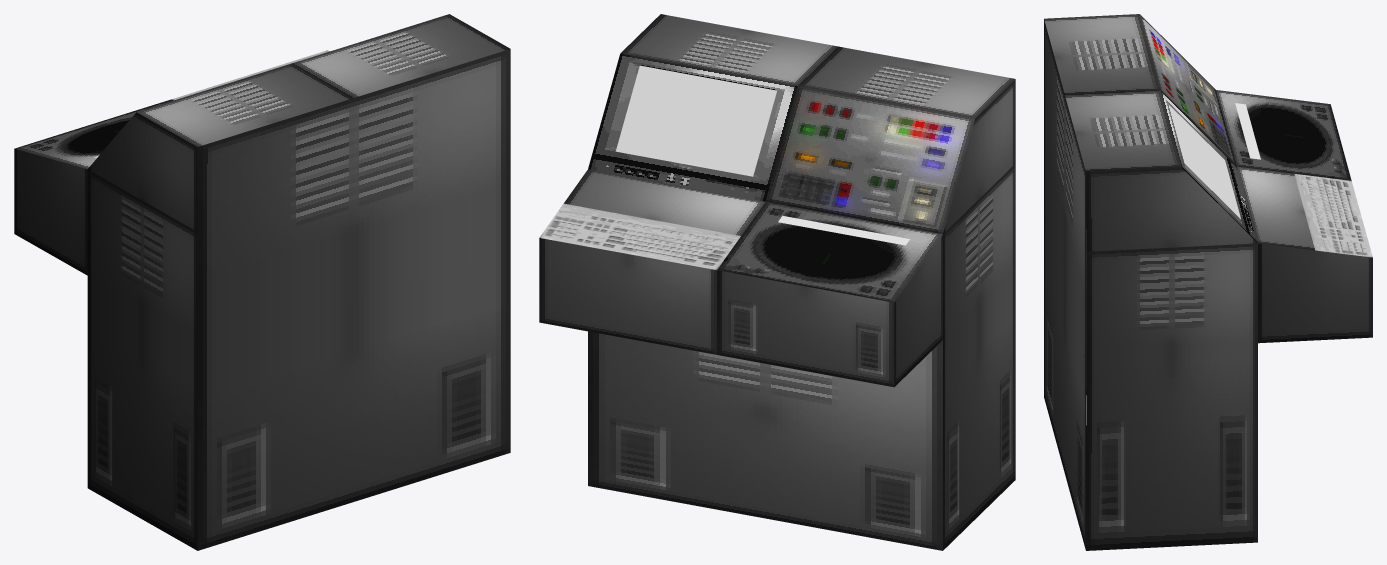
Rendered from primary_062.glb.
The picture shows the model from 3 angles, left to right: view 1: azimuth 30°, elevation 25°; view 2: azimuth 150°, elevation 25°; view 3: azimuth 270°, elevation 25°; orthographic projection. The views are drawn at different scales.
Visible parts, largest first — view 1: Object; view 2: Object; view 3: Object.
Part boxes in pixels (x1,y1,x2,y2): Object: (14,14,510,550); Object: (539,14,1015,550); Object: (1044,14,1372,550).
Bounding box in the file's own units: 1.19 × 1.25 × 0.9862.
22 materials, 22 textured.
